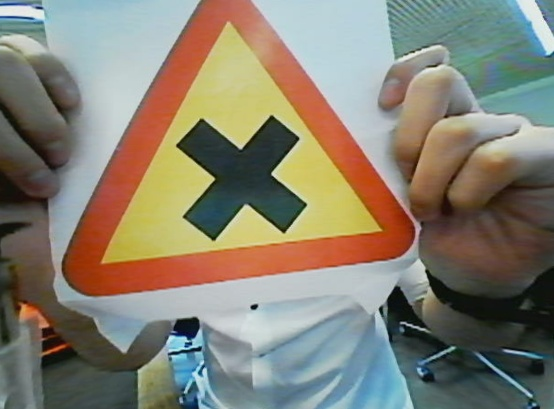junction: (44, 1, 434, 301)
